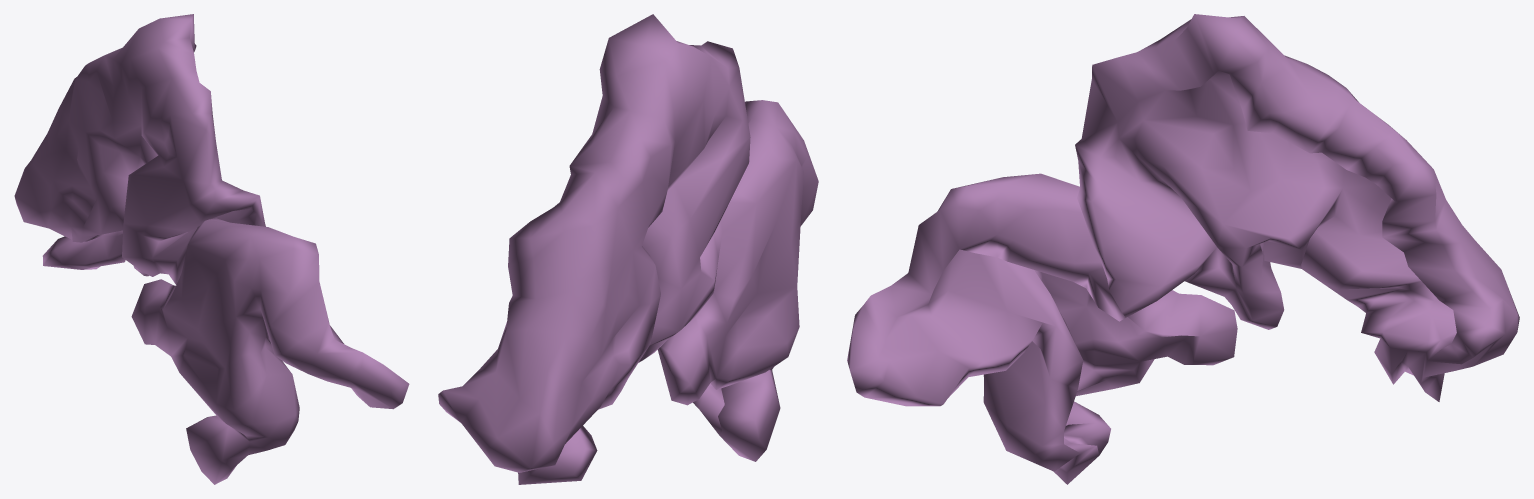
The picture shows the model from 3 angles, left to right: view 1: azimuth 30°, elevation 25°; view 2: azimuth 150°, elevation 25°; view 3: azimuth 270°, elevation 25°; orthographic projection. The views are drawn at different scales.
Visible parts, largest first — view 1: 左侧楔前叶; view 2: 左侧楔前叶; view 3: 左侧楔前叶.
Boxes of the visible parts, x1=… form: 左侧楔前叶: x1=14, y1=14, x2=409, y2=484; 左侧楔前叶: x1=438, y1=14, x2=818, y2=484; 左侧楔前叶: x1=847, y1=14, x2=1519, y2=484.
Size of the model in its own units: 0.0242 by 0.0794 by 0.0999.
